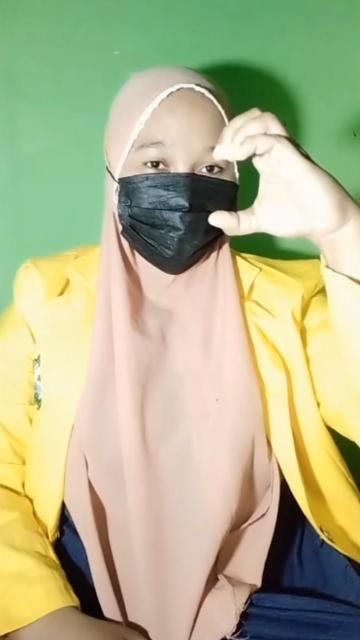C: (204, 106, 358, 254)
